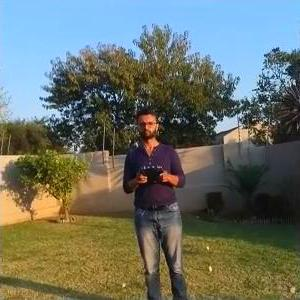follow: (119, 100, 194, 298)
